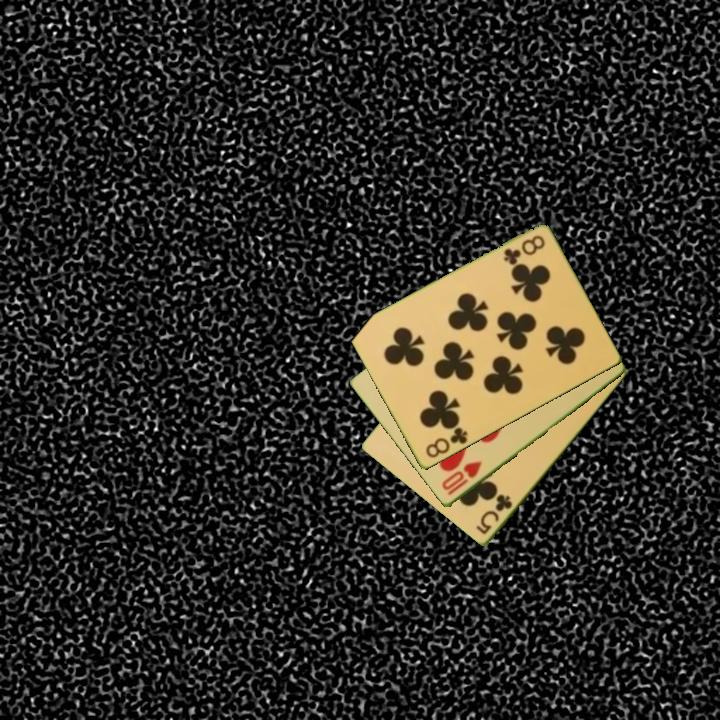10h: (438, 458, 485, 499)
5c: (472, 491, 515, 538)
8c: (422, 424, 471, 462), (500, 232, 548, 268)
